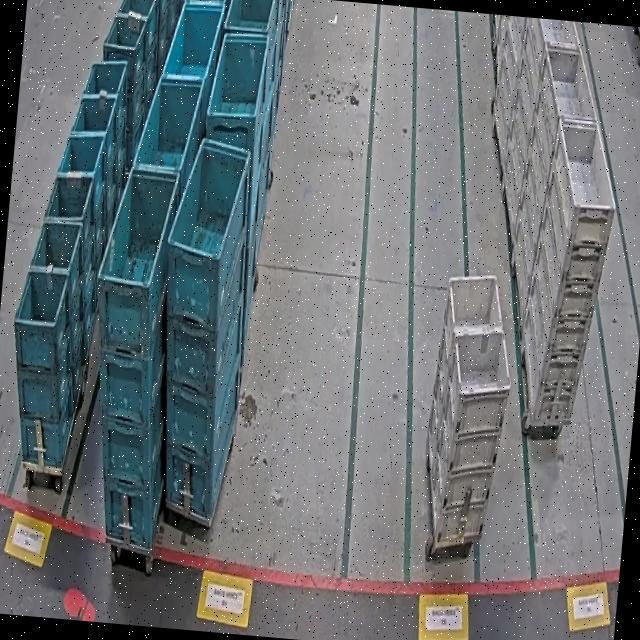6G: (511, 114, 622, 433)
8G: (420, 268, 520, 550)
B4: (142, 134, 262, 520), (74, 168, 190, 551)
B8: (0, 216, 93, 470)
